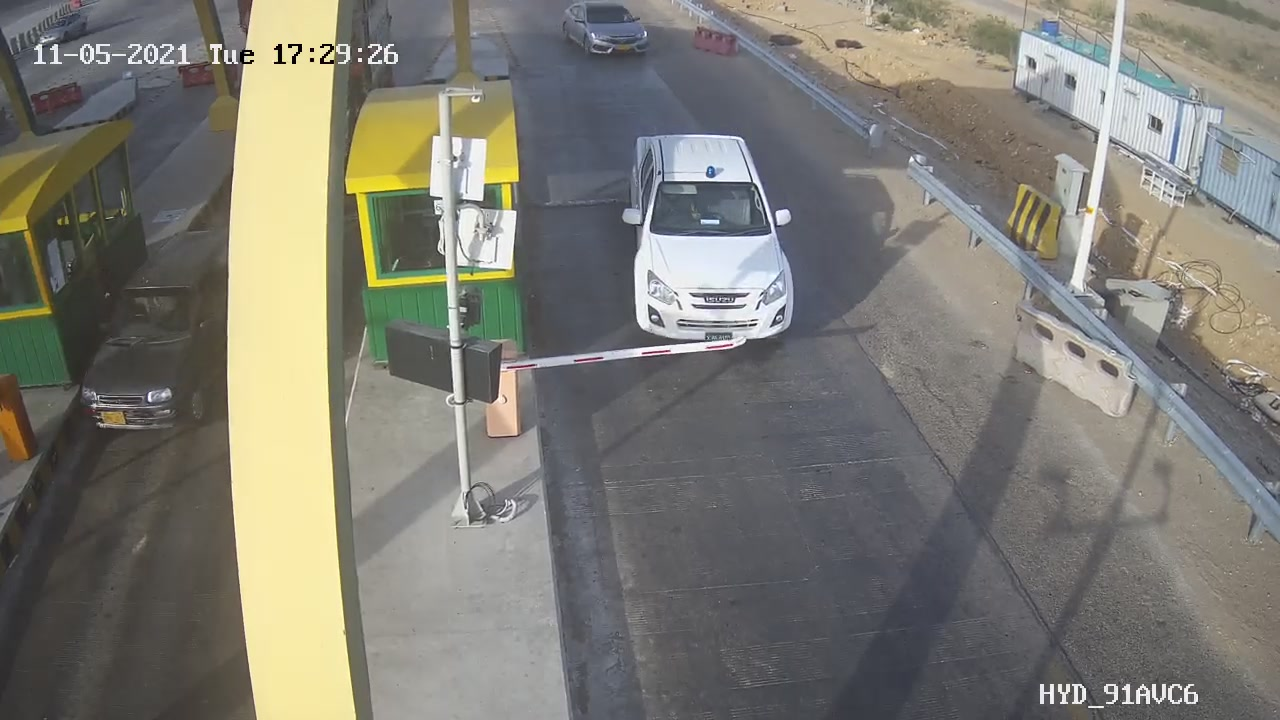F1: (607, 114, 817, 364)
